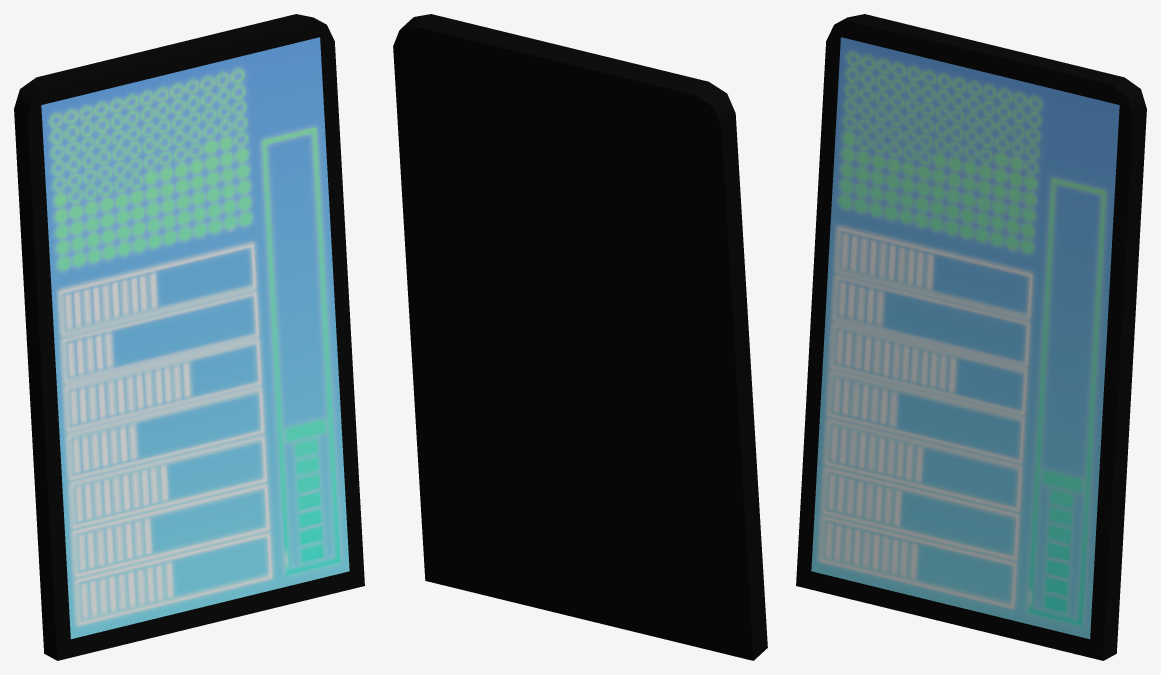
Rendered from Terminal_017_monitor_002.fbx.
The picture shows the model from 3 angles, left to right: view 1: azimuth 30°, elevation 25°; view 2: azimuth 150°, elevation 25°; view 3: azimuth 330°, elevation 25°; orthographic projection. The views are drawn at different scales.
Parts seen in each view (by area): view 1: Terminal_017_monitor_002; view 2: Terminal_017_monitor_002; view 3: Terminal_017_monitor_002.
Part boxes in pixels (box(x1,y1,x2,y2)): Terminal_017_monitor_002: box(14, 14, 364, 660); Terminal_017_monitor_002: box(393, 14, 767, 660); Terminal_017_monitor_002: box(796, 14, 1146, 660).
Bounding box in the file's own units: 35.79 × 9.06 × 61.17.
